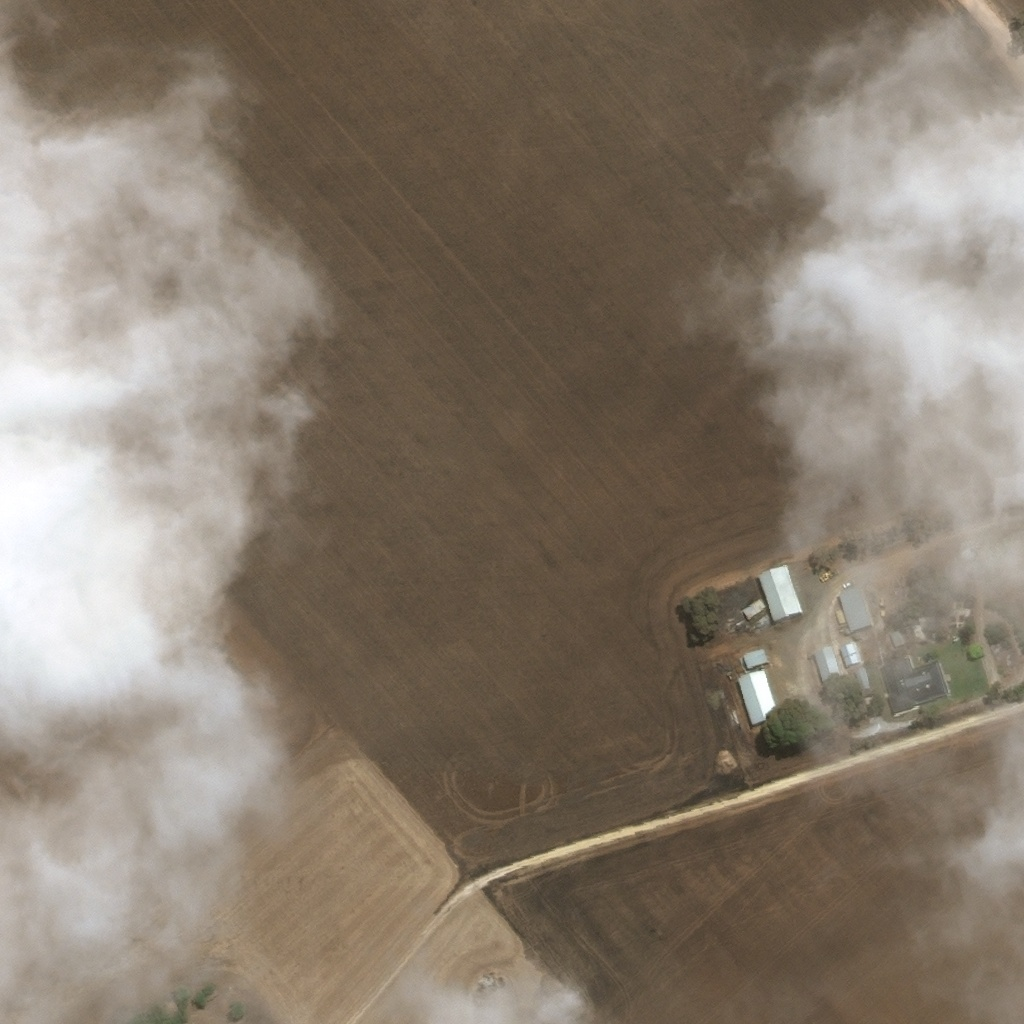0 no-damage: (879, 655, 948, 714), (758, 562, 804, 623), (737, 669, 778, 724), (839, 585, 872, 631), (812, 645, 842, 680), (742, 597, 766, 620), (839, 641, 860, 667), (742, 647, 768, 667), (855, 667, 870, 688), (888, 630, 904, 648), (853, 631, 862, 639), (842, 628, 851, 633)
